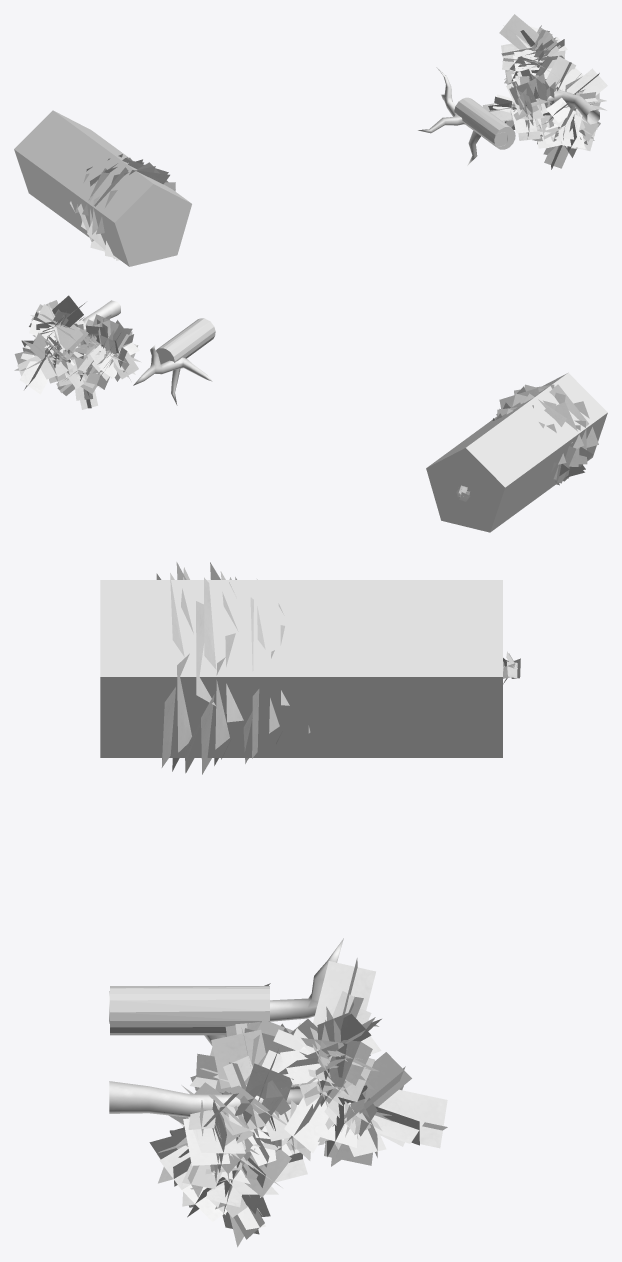
Rendered from plants.dae.
The picture shows the model from 3 angles, top to bottom: view 1: azimuth 30°, elevation 25°; view 2: azimuth 150°, elevation 25°; view 3: azimuth 270°, elevation 25°; orthographic projection. The views are drawn at different scales.
Parts seen in each view (by area): view 1: PHYSICS:wall_fir, tree, SHADOW:false_fir, PHYSICS:wall_tree_dead, tree_dead; view 2: PHYSICS:wall_fir, tree, SHADOW:false_fir, PHYSICS:wall_tree_dead, tree_dead; view 3: PHYSICS:wall_fir, tree, SHADOW:false_fir, PHYSICS:wall_tree_dead, tree_dead.
Part boxes in pixels (left/top/right/bottom): PHYSICS:wall_fir: left=14, top=110, right=191, bottom=266; tree: left=483, top=14, right=607, bottom=169; SHADOW:false_fir: left=70, top=154, right=175, bottom=260; PHYSICS:wall_tree_dead: left=454, top=97, right=515, bottom=149; tree_dead: left=418, top=67, right=507, bottom=165; PHYSICS:wall_fir: left=426, top=372, right=607, bottom=532; tree: left=14, top=295, right=141, bottom=409; SHADOW:false_fir: left=456, top=384, right=598, bottom=501; PHYSICS:wall_tree_dead: left=156, top=318, right=215, bottom=363; tree_dead: left=133, top=344, right=212, bottom=405; PHYSICS:wall_fir: left=100, top=580, right=502, bottom=757; tree: left=109, top=958, right=447, bottom=1247; SHADOW:false_fir: left=156, top=562, right=520, bottom=774; PHYSICS:wall_tree_dead: left=110, top=986, right=269, bottom=1035; tree_dead: left=109, top=938, right=378, bottom=1045.
Size of the model in its own units: 27.9 by 9.66 by 6.94.
